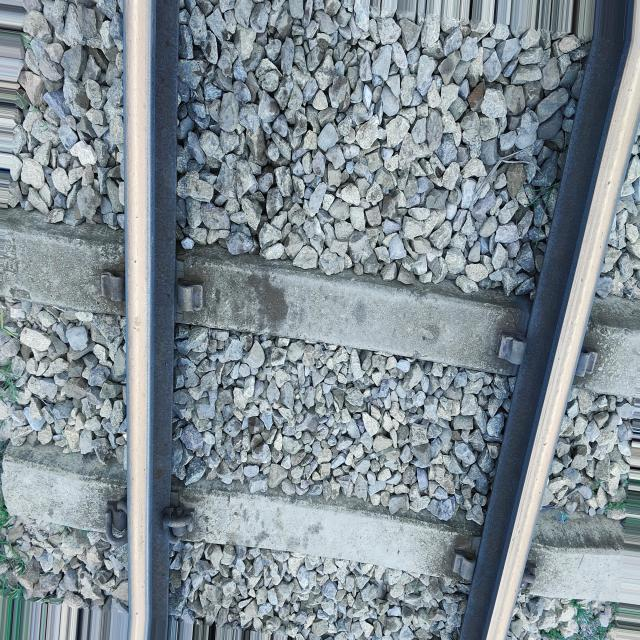Good Fasteners: (162, 506, 195, 538), (105, 500, 127, 545), (520, 572, 536, 589)
Missing Fastener: (95, 248, 125, 312), (171, 272, 210, 320), (492, 329, 526, 376), (444, 551, 484, 590), (574, 349, 597, 377)
